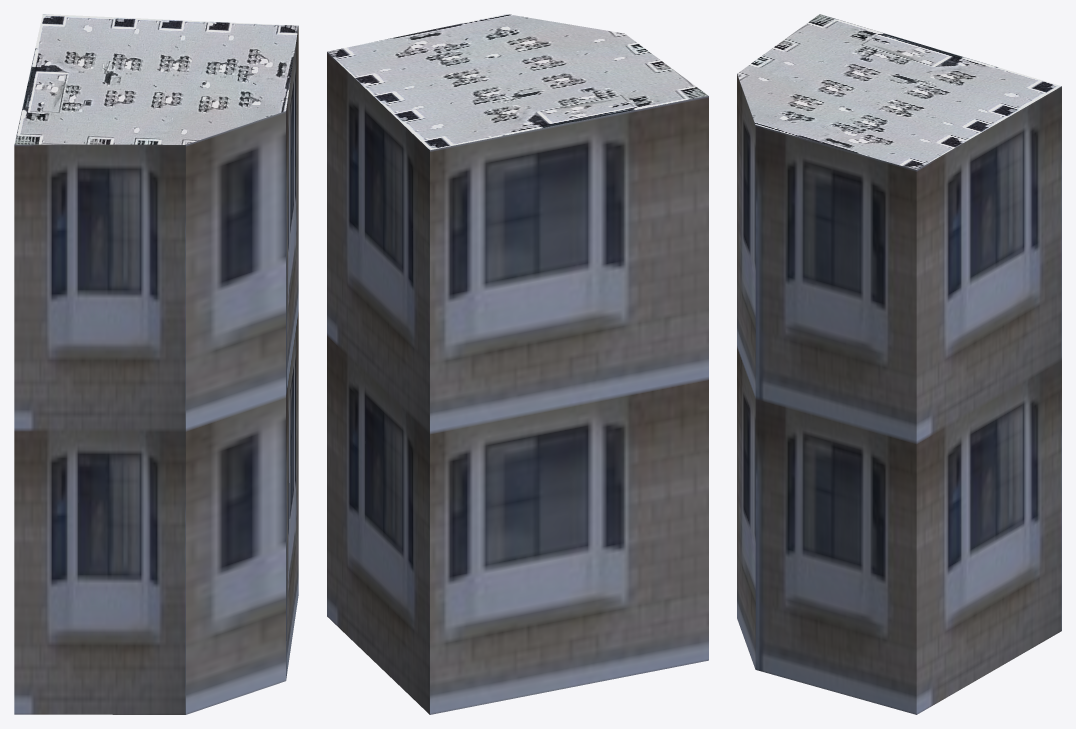
File: ResTex__3830.fbx
3 renders of one model, left to right at view 1: azimuth 30°, elevation 25°; view 2: azimuth 150°, elevation 25°; view 3: azimuth 270°, elevation 25°, orthographic. The views are drawn at different scales.
Visible parts, largest first — view 1: CityEngineMaterial_3_m, CityEngineMaterial_m; view 2: CityEngineMaterial_3_m, CityEngineMaterial_m; view 3: CityEngineMaterial_3_m, CityEngineMaterial_m.
Part boxes in pixels (left/top/right/bottom): CityEngineMaterial_3_m: left=14, top=26, right=298, bottom=714; CityEngineMaterial_m: left=14, top=14, right=298, bottom=144; CityEngineMaterial_3_m: left=327, top=52, right=708, bottom=714; CityEngineMaterial_m: left=327, top=14, right=708, bottom=150; CityEngineMaterial_3_m: left=737, top=74, right=1061, bottom=714; CityEngineMaterial_m: left=737, top=14, right=1061, bottom=169.
Bounding box in the file's own units: 3.69 × 6 × 3.24.
2 materials, 2 textured.
